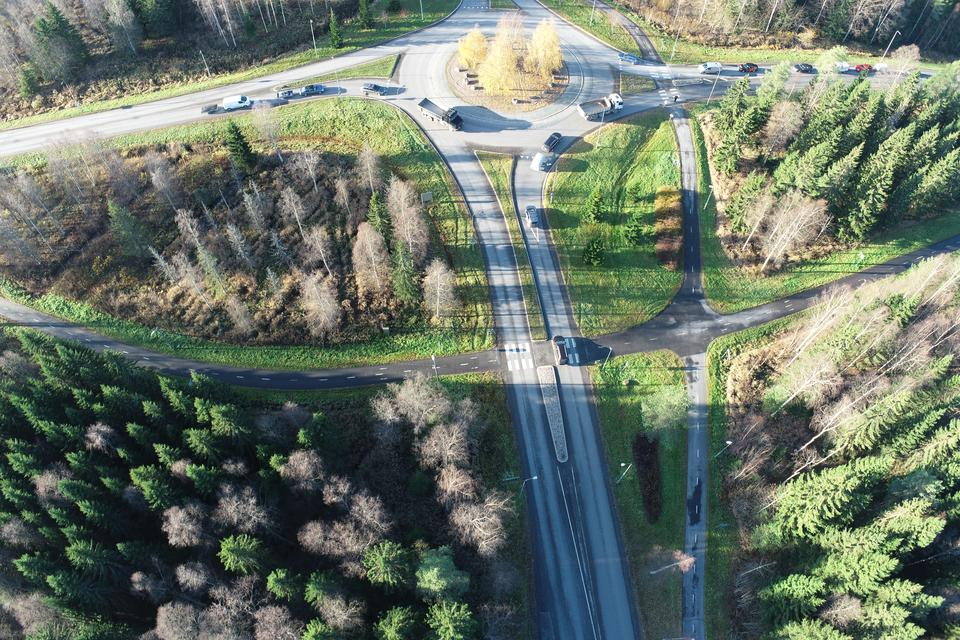intersection: (631, 40, 728, 145), (478, 321, 608, 386)
roundabout: (327, 0, 620, 183)
